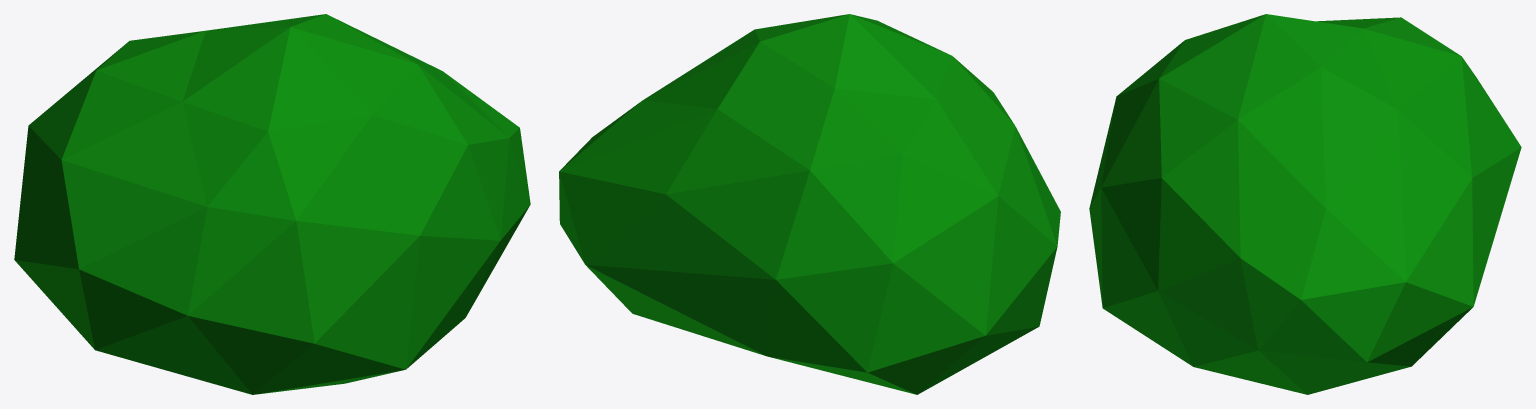
The model's file is lp_tree1_Icosphere_021.obj.
3 views of the same model, side by side, from view 1: azimuth 30°, elevation 25°; view 2: azimuth 150°, elevation 25°; view 3: azimuth 270°, elevation 25° (orthographic). The views are drawn at different scales.
Visible parts, largest first — view 1: lp_tree1_Icosphere_021; view 2: lp_tree1_Icosphere_021; view 3: lp_tree1_Icosphere_021.
Boxes of the visible parts, left/top/right/bottom form: lp_tree1_Icosphere_021: left=14, top=14, right=530, bottom=394; lp_tree1_Icosphere_021: left=559, top=14, right=1060, bottom=394; lp_tree1_Icosphere_021: left=1089, top=14, right=1521, bottom=394.
Size of the model in its own units: 3.96 by 2.8 by 3.32.
